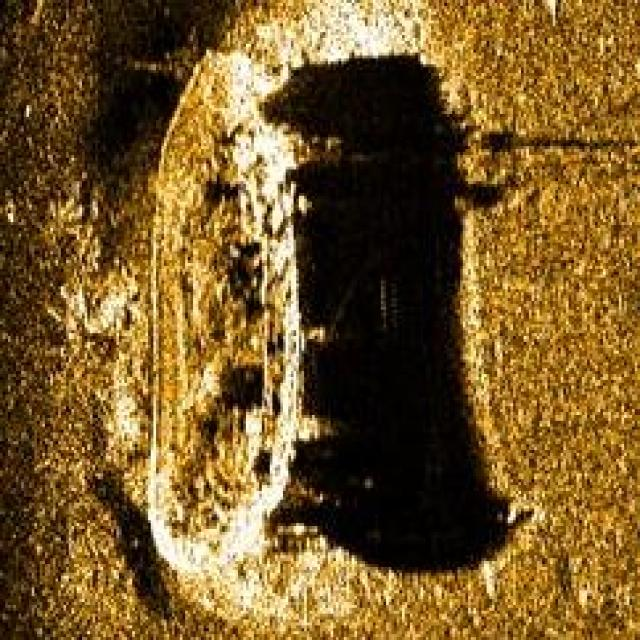ship: (148, 41, 315, 567)
